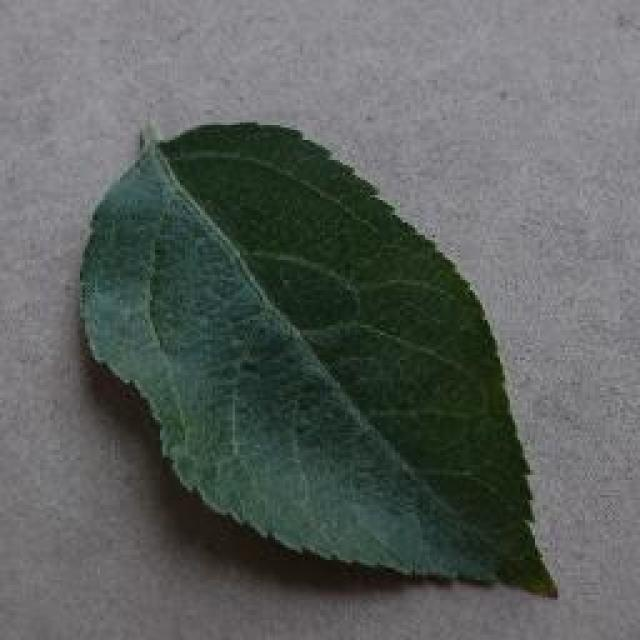apple healthy: (75, 115, 560, 597)
